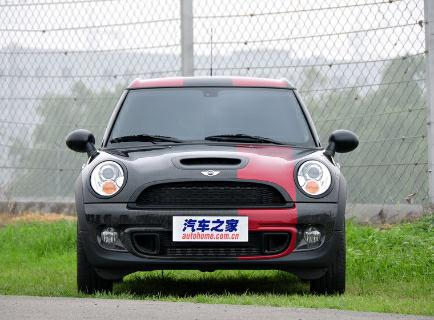MINI CLUBMAN: (53, 81, 367, 257)
